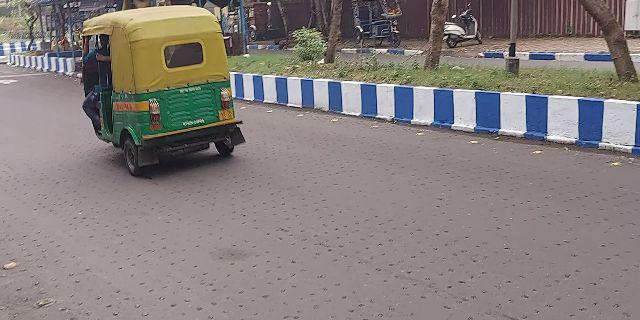Autorickshaw: (80, 7, 242, 164)
